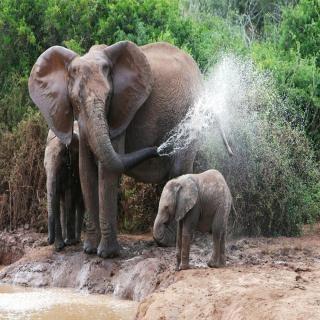Elephant: (27, 39, 211, 261), (152, 168, 244, 273), (39, 117, 87, 256)
